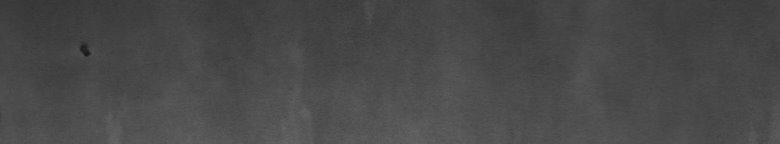fi: (74, 38, 96, 64)
